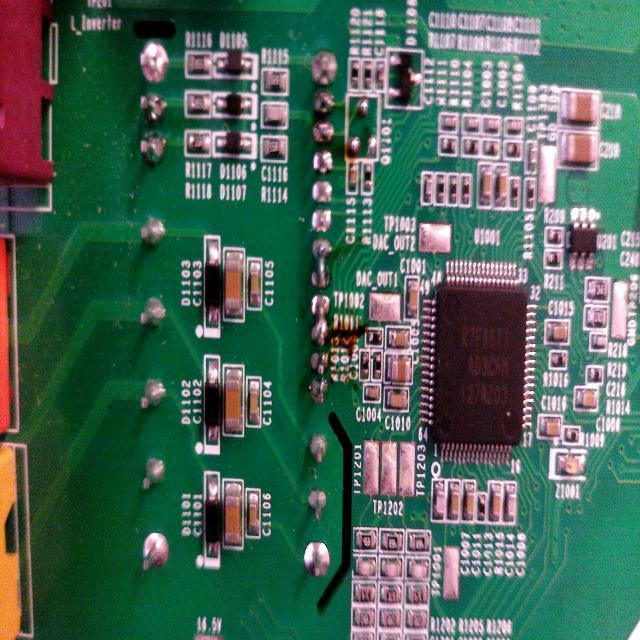Soldering shorted: (311, 292, 334, 348), (308, 240, 334, 288)
